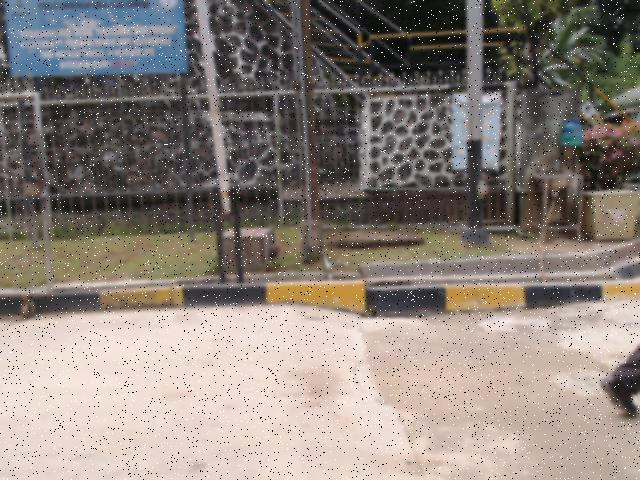safety-shoes: (597, 371, 640, 421)
